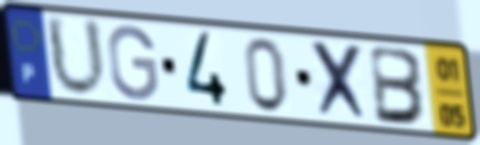0: (240, 34, 291, 116)
4: (183, 28, 231, 111)
B: (368, 42, 430, 128)
G: (106, 23, 161, 104)
U: (42, 12, 111, 102)
X: (308, 37, 373, 126)
